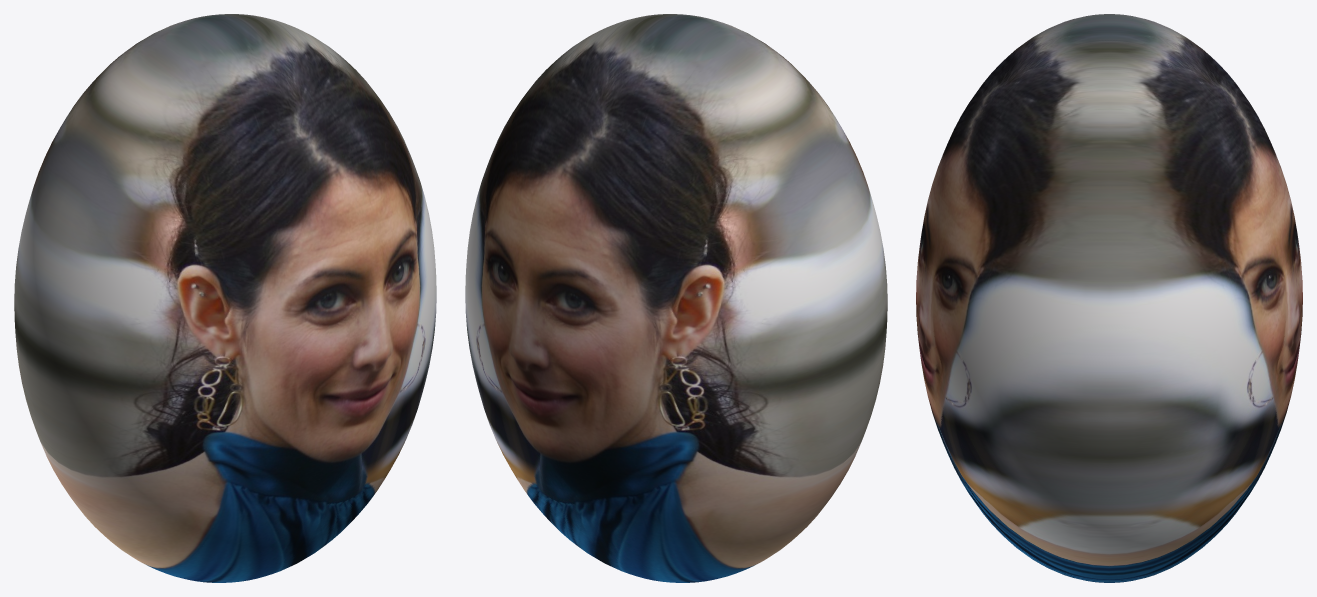
3 renders of one model, left to right at view 1: azimuth 30°, elevation 25°; view 2: azimuth 150°, elevation 25°; view 3: azimuth 270°, elevation 25°, orthographic.
Visible parts, largest first — view 1: head; view 2: head; view 3: head.
Part boxes in pixels (x1=…): head: x1=14, y1=14, x2=436, y2=582; head: x1=465, y1=14, x2=887, y2=582; head: x1=916, y1=14, x2=1302, y2=582.
Size of the model in its own units: 1.45 by 2 by 1.3.
Materials: 1 (1 with a texture image).
